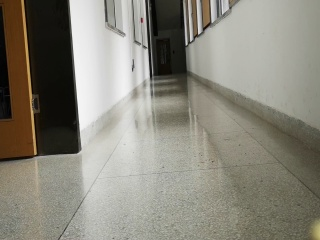room: (1, 1, 83, 159)
